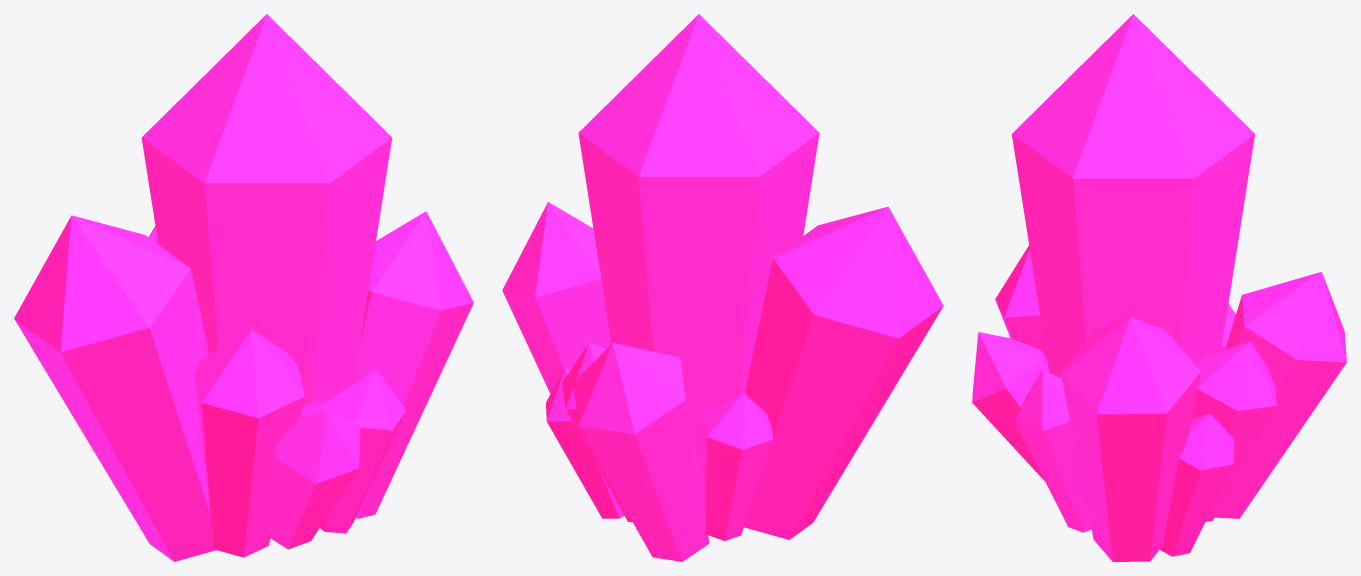
Rendered from Cristal3.fbx.
3 views of the same model, side by side, from view 1: azimuth 30°, elevation 25°; view 2: azimuth 150°, elevation 25°; view 3: azimuth 270°, elevation 25° (orthographic). The views are drawn at different scales.
Visible parts, largest first — view 1: Cristal.001; view 2: Cristal.001; view 3: Cristal.001.
Part boxes in pixels (left/top/right/bottom): Cristal.001: left=14, top=14, right=473, bottom=561; Cristal.001: left=502, top=14, right=943, bottom=561; Cristal.001: left=972, top=14, right=1346, bottom=561.
Bounding box in the file's own units: 588 × 703 × 470.
